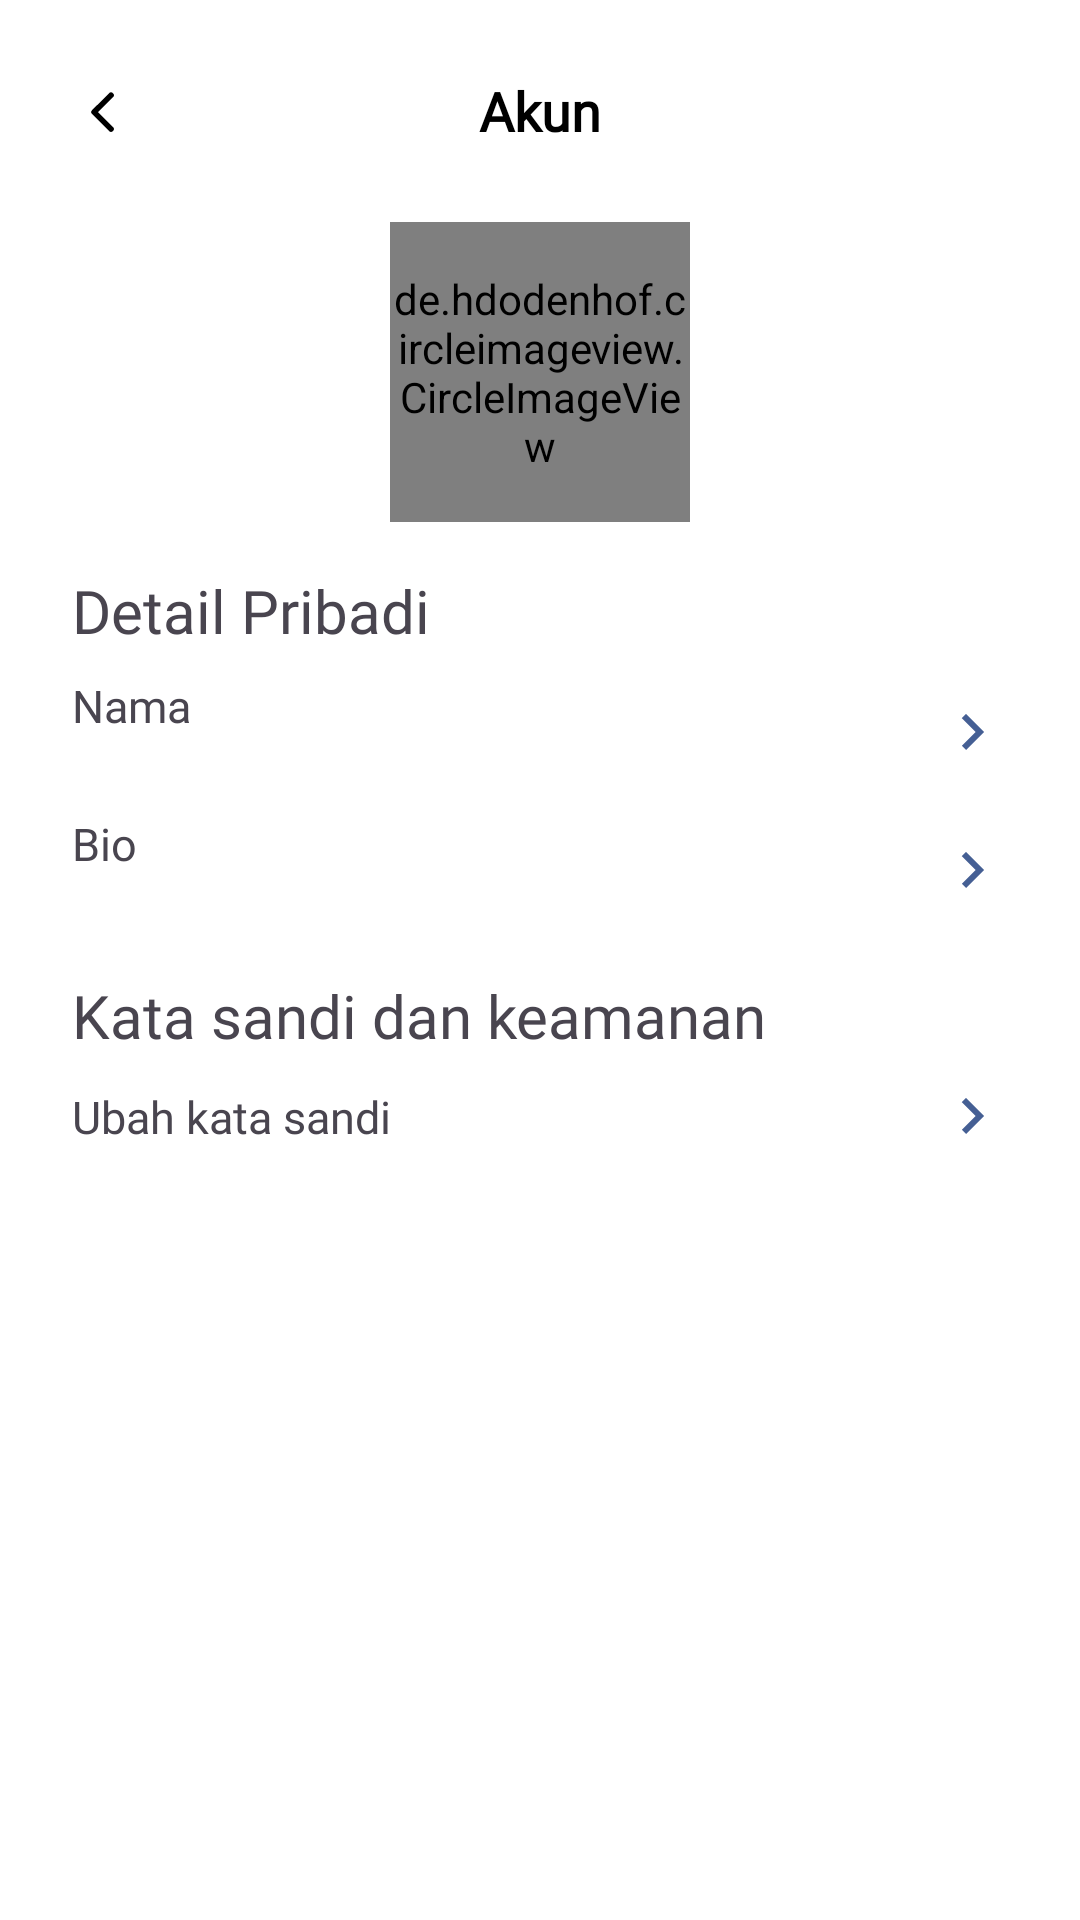

Screen size 1080px x 1920px. Icon name, then its box in pixels as (x1, y1, x2, y2):
keyboard arrow right: (962, 714, 984, 750), (962, 852, 984, 888), (962, 1098, 984, 1134)
